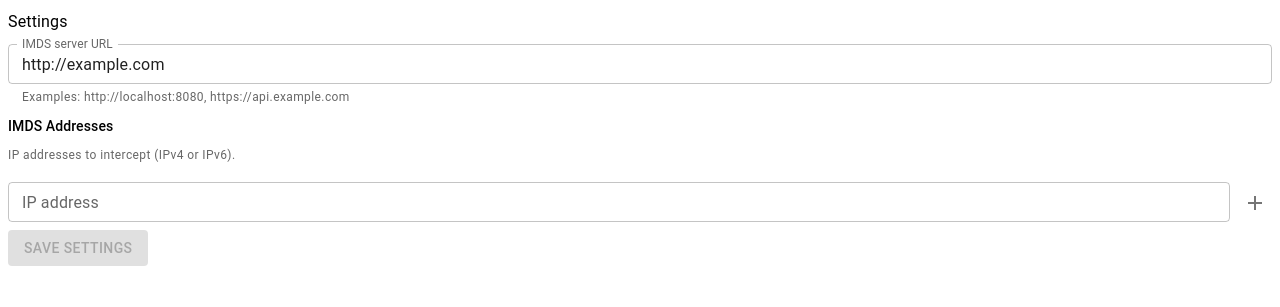
Scenario: SettingsForm › rejects an invalid IP address
Type "not-an-ip" into the field labelled "IP address" at point(619, 202), box 8,182 -> 1230,222
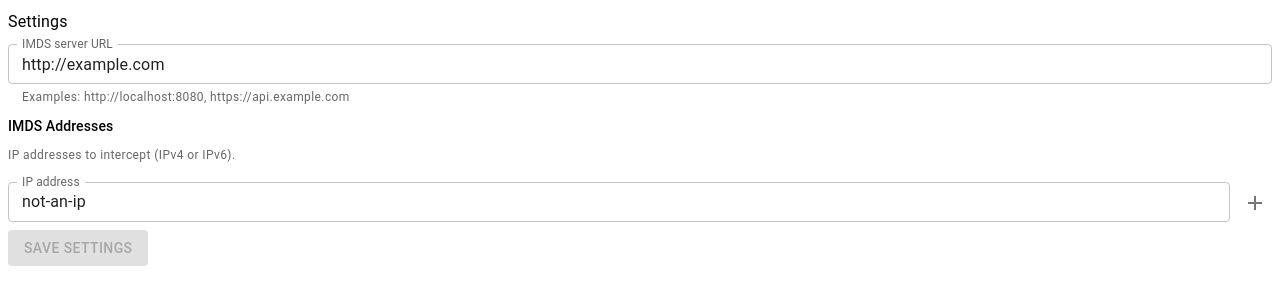
Click the 1st button at point(1255, 203), box 1238,186 -> 1272,220
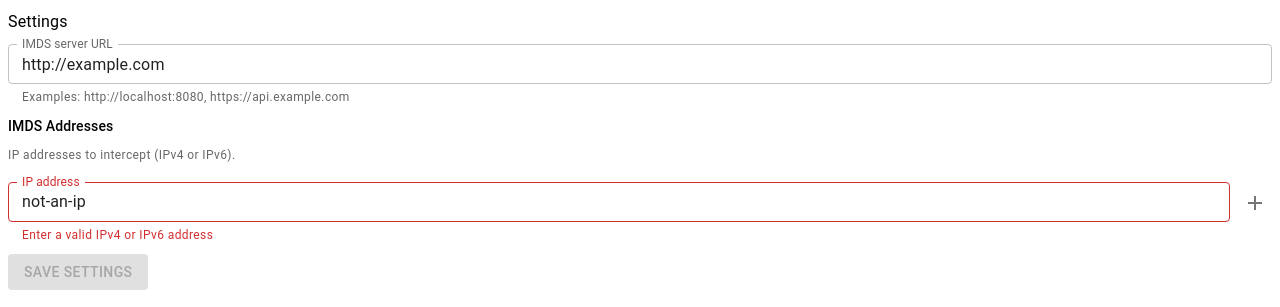
Check: the text "Enter a valid IPv4 or IPv6 address" is shown, box 22,228 -> 213,242
